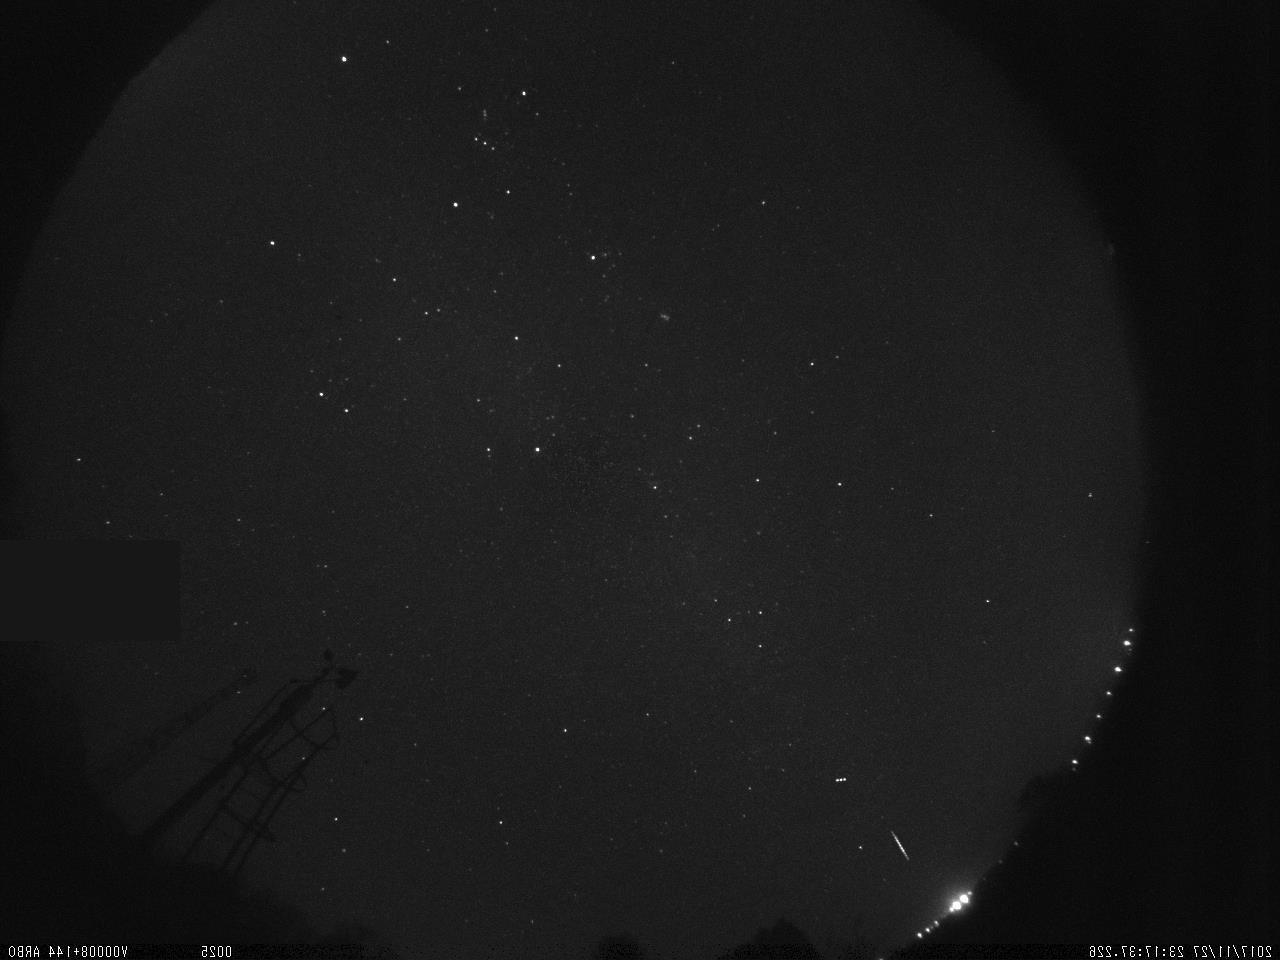meteor: (886, 821, 915, 870)
